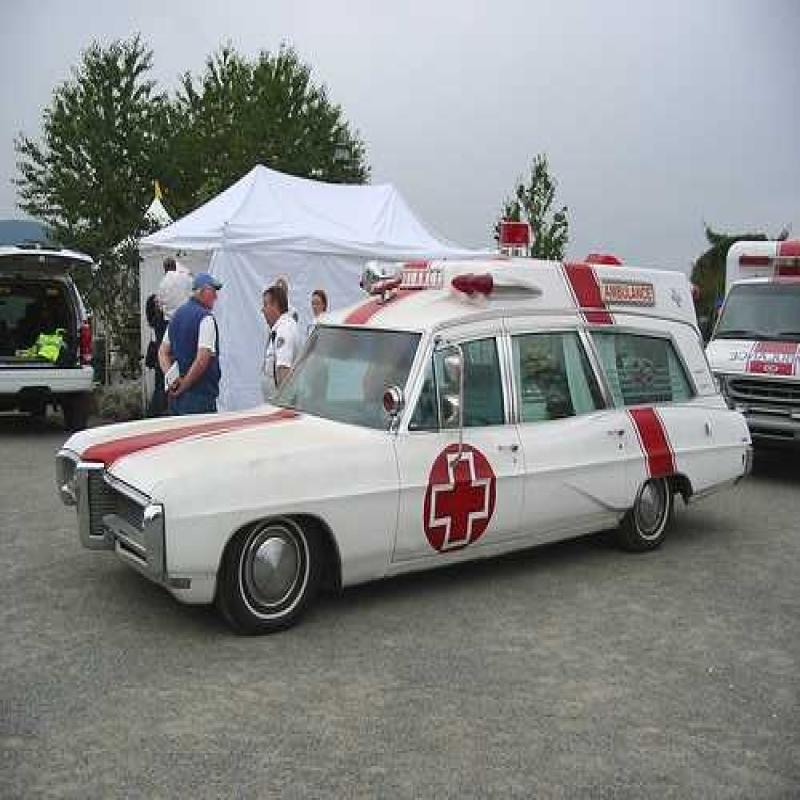AmbulanceSiren: (499, 208, 538, 271)
